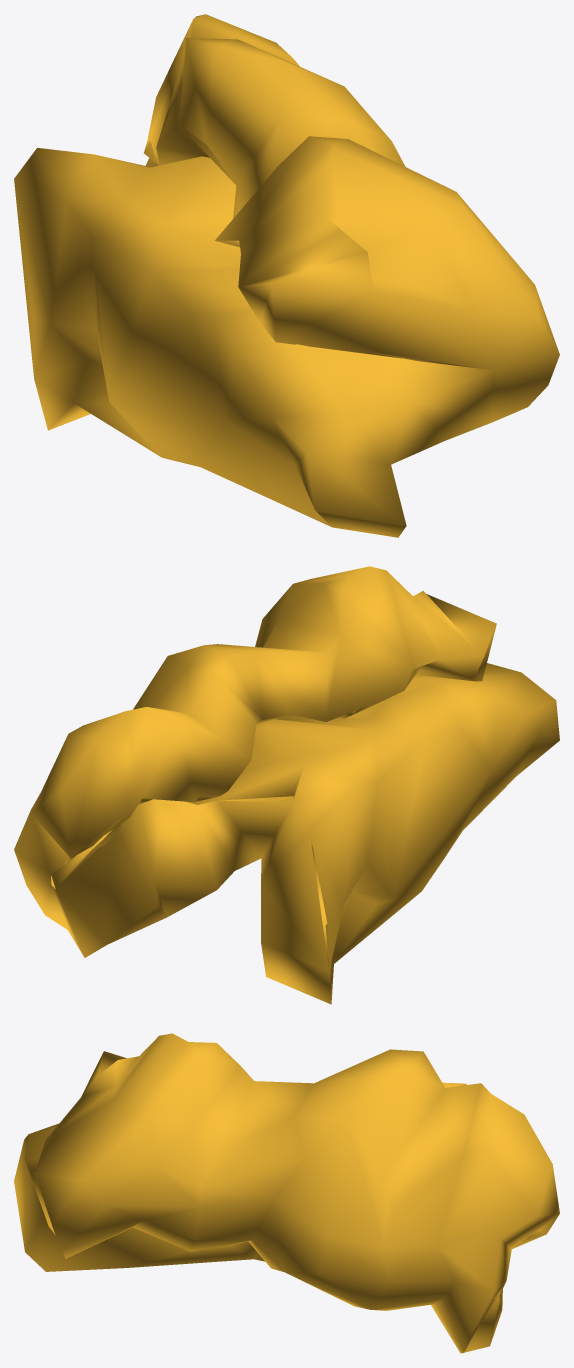
The model's file is nervoso-cingulate-gyrus-and-sulcus-middle-posterior-part-l.glb.
The picture shows the model from 3 angles, top to bottom: view 1: azimuth 30°, elevation 25°; view 2: azimuth 150°, elevation 25°; view 3: azimuth 270°, elevation 25°; orthographic projection. The views are drawn at different scales.
Parts seen in each view (by area): view 1: Cingulate gyrus and sulcus (Middle posterior part).l; view 2: Cingulate gyrus and sulcus (Middle posterior part).l; view 3: Cingulate gyrus and sulcus (Middle posterior part).l.
Part boxes in pixels (box(x1,y1,x2,y2)): Cingulate gyrus and sulcus (Middle posterior part).l: box(14, 14, 559, 537); Cingulate gyrus and sulcus (Middle posterior part).l: box(14, 566, 559, 1004); Cingulate gyrus and sulcus (Middle posterior part).l: box(14, 1033, 559, 1353).
Size of the model in its own units: 0.0181 by 0.019 by 0.033.
